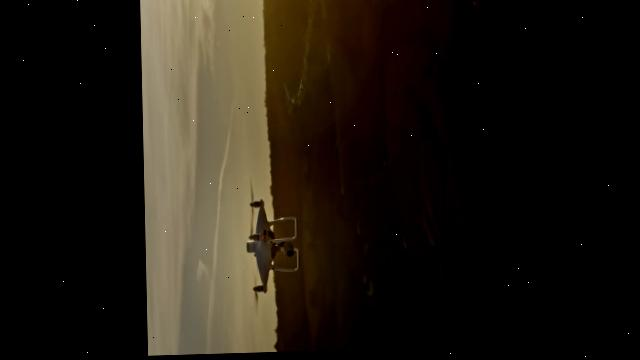drone: (240, 174, 301, 313)
